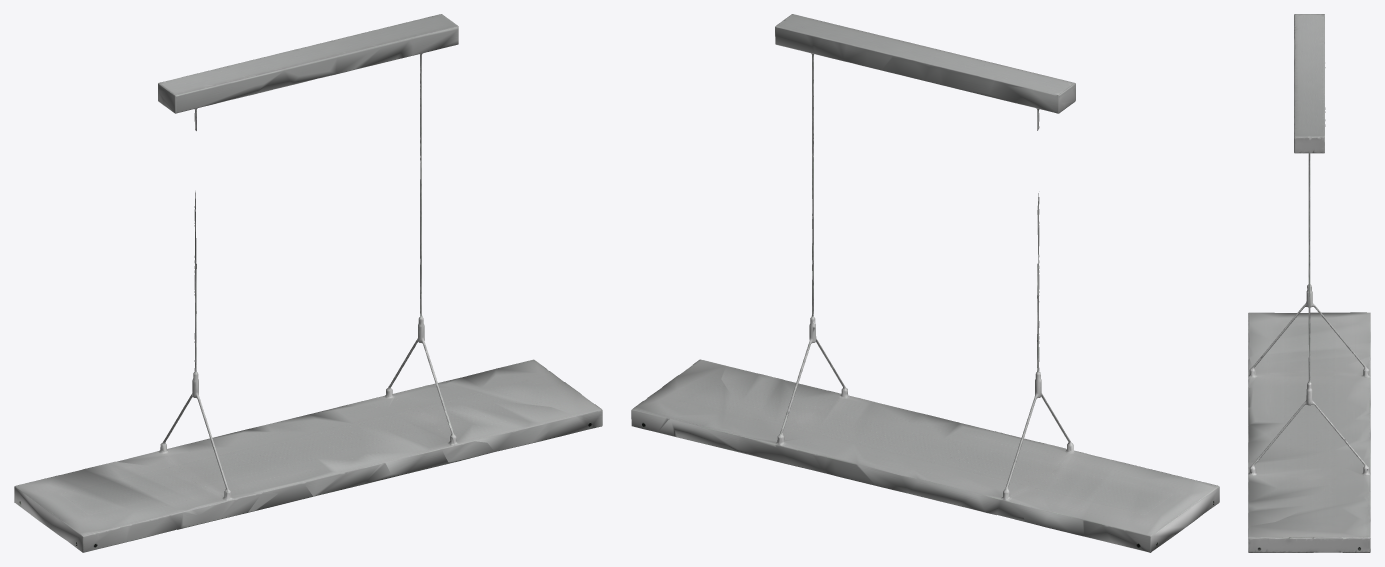
Rendered from industrial_ceiling_light_reference.glb.
3 views of the same model, side by side, from view 1: azimuth 30°, elevation 25°; view 2: azimuth 150°, elevation 25°; view 3: azimuth 270°, elevation 25° (orthographic). The views are drawn at different scales.
Parts seen in each view (by area): view 1: Mesh_0; view 2: Mesh_0; view 3: Mesh_0.
Part boxes in pixels (bbox=[...]): Mesh_0: bbox=[14, 14, 602, 552]; Mesh_0: bbox=[631, 14, 1219, 552]; Mesh_0: bbox=[1248, 14, 1370, 552].
Size of the model in its own units: 1.91 by 1.44 by 0.4388.
Materials: 1 (1 with a texture image).
